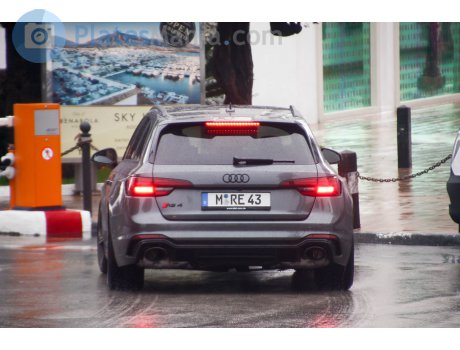License Plates: (211, 192, 257, 203)
